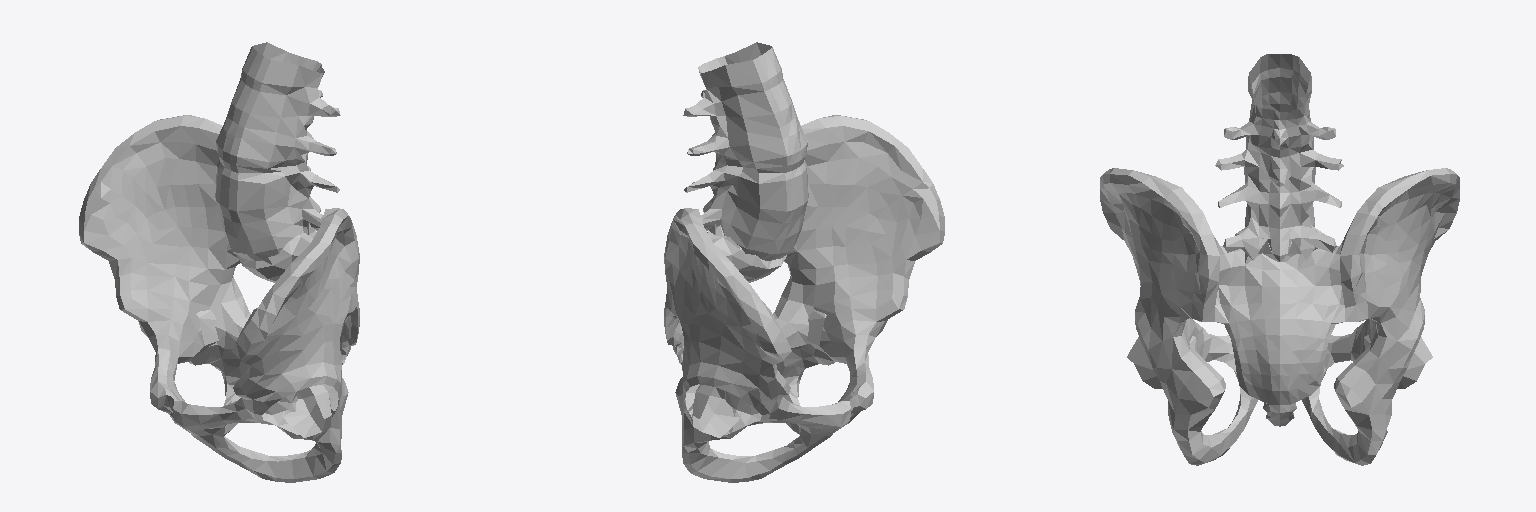
The model's file is pelvis.obj.
3 renders of one model, left to right at view 1: azimuth 30°, elevation 25°; view 2: azimuth 150°, elevation 25°; view 3: azimuth 270°, elevation 25°, orthographic.
Visible parts, largest first — view 1: ei189, ei186, ei.165, ei116, ei.176, ei.180, ei.191, ei.099; view 2: ei186, ei189, ei.176, ei.099, ei.165, ei.180, ei.191, ei159; view 3: ei189, ei186, ei.191, ei159, ei.163, ei.165, ei.176, ei116, ei.099.
Part boxes in pixels (left/top/right/bottom): ei189: left=79, top=115, right=250, bottom=435; ei186: left=170, top=208, right=359, bottom=482; ei.165: left=220, top=53, right=340, bottom=260; ei116: left=283, top=384, right=331, bottom=437; ei.176: left=215, top=42, right=298, bottom=248; ei.180: left=237, top=250, right=357, bottom=359; ei.191: left=281, top=222, right=359, bottom=364; ei.099: left=196, top=310, right=218, bottom=352; ei186: left=773, top=115, right=944, bottom=434; ei189: left=664, top=208, right=853, bottom=482; ei.176: left=683, top=53, right=803, bottom=260; ei.099: left=692, top=384, right=740, bottom=437; ei.165: left=725, top=42, right=808, bottom=248; ei.180: left=666, top=250, right=786, bottom=359; ei.191: left=664, top=224, right=755, bottom=364; ei159: left=684, top=65, right=722, bottom=212; ei189: left=1302, top=168, right=1459, bottom=465; ei186: left=1100, top=168, right=1257, bottom=465; ei.191: left=1215, top=241, right=1344, bottom=426; ei159: left=1279, top=106, right=1343, bottom=261; ei.163: left=1218, top=106, right=1279, bottom=261; ei.165: left=1215, top=54, right=1279, bottom=259; ei.176: left=1280, top=54, right=1342, bottom=250; ei116: left=1127, top=336, right=1200, bottom=388; ei.099: left=1359, top=335, right=1432, bottom=388.
Size of the model in its own units: 0.2311 by 0.4576 by 0.3679.